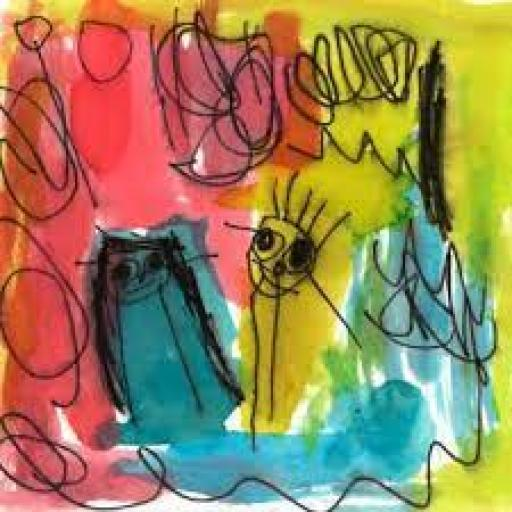person: (214, 183, 382, 455), (72, 207, 240, 432)
